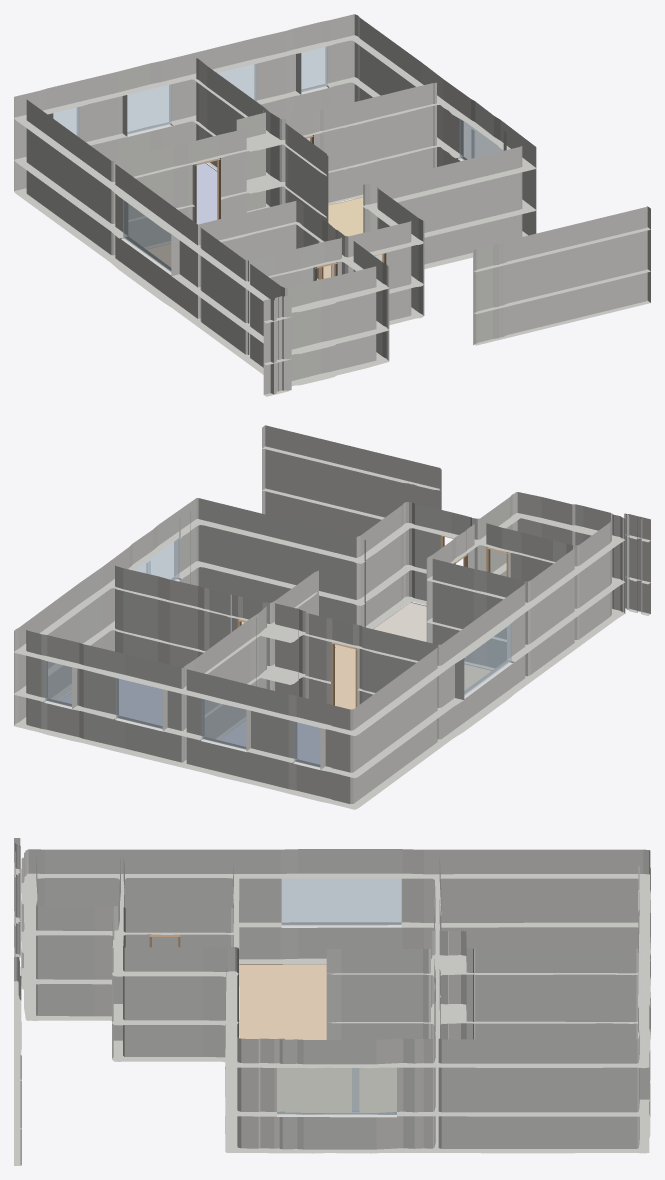
The picture shows the model from 3 angles, top to bottom: view 1: azimuth 30°, elevation 25°; view 2: azimuth 150°, elevation 25°; view 3: azimuth 270°, elevation 25°; orthographic projection. The views are drawn at different scales.
Parts seen in each view (by area): view 1: walls, window_9, window_6, floor_3_Bed_Room, floor_0_Kitchen, window_8, window_10, window_7; view 2: walls, window_7, window_6, window_9, floor_2_Bed_Room, floor_1_Living_Room, floor_5_Entry, floor_3_Bed_Room, window_8, window_5, window_10; view 3: walls, floor_1_Living_Room, window_9, window_10, floor_0_Kitchen, sill_10, sill_9.
Boxes of the visible parts, left/top/right/bottom form: walls: left=14, top=14, right=650, bottom=396; window_9: left=123, top=196, right=171, bottom=271; window_6: left=126, top=84, right=171, bottom=134; floor_3_Bed_Room: left=196, top=163, right=217, bottom=224; floor_0_Kitchen: left=328, top=197, right=363, bottom=236; window_8: left=301, top=46, right=327, bottom=91; window_10: left=459, top=116, right=503, bottom=160; window_7: left=218, top=63, right=256, bottom=101; walls: left=14, top=425, right=650, bottom=809; window_7: left=116, top=675, right=162, bottom=728; window_6: left=201, top=697, right=246, bottom=749; window_9: left=459, top=623, right=511, bottom=695; floor_2_Bed_Room: left=59, top=679, right=162, bottom=725; floor_1_Living_Room: left=335, top=644, right=491, bottom=709; floor_5_Entry: left=373, top=602, right=426, bottom=641; floor_3_Bed_Room: left=219, top=720, right=319, bottom=764; window_8: left=45, top=661, right=74, bottom=706; window_5: left=294, top=719, right=320, bottom=767; window_10: left=135, top=538, right=179, bottom=580; walls: left=14, top=838, right=650, bottom=1165; floor_1_Living_Room: left=239, top=964, right=326, bottom=1039; window_9: left=281, top=878, right=401, bottom=925; window_10: left=277, top=1065, right=396, bottom=1114; floor_0_Kitchen: left=277, top=1068, right=396, bottom=1112; sill_10: left=277, top=1113, right=396, bottom=1117; sill_9: left=281, top=924, right=401, bottom=927.
Bounding box in the file's own units: 11.51 × 2.72 × 14.21.
